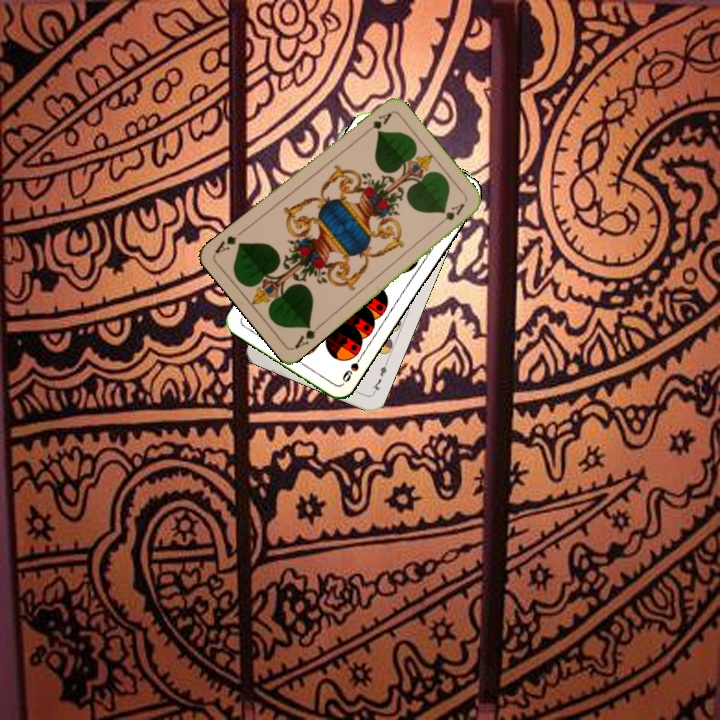E7: (368, 358, 391, 397)
GA: (290, 320, 324, 351), (359, 108, 394, 138)
S9: (338, 350, 366, 385)
